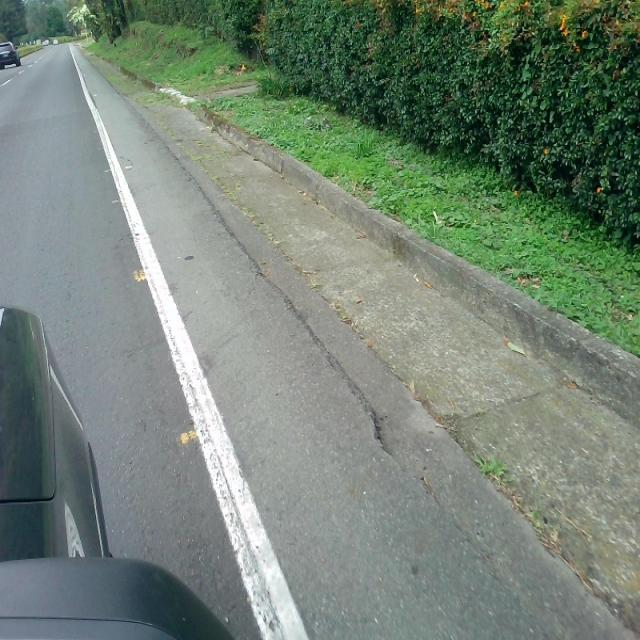DITCH: (32, 50, 616, 638), (67, 40, 638, 637)
